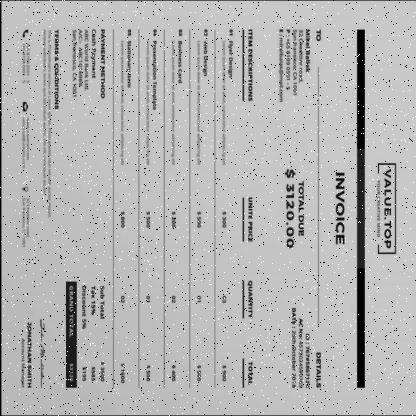Paragraph: (67, 284, 105, 382), (40, 28, 58, 219), (277, 28, 321, 102), (290, 307, 321, 389), (71, 28, 105, 99), (282, 168, 304, 249), (375, 168, 392, 249), (20, 322, 31, 388), (335, 172, 344, 246), (20, 116, 29, 170), (20, 43, 30, 84), (21, 198, 29, 248)
Table: (112, 26, 254, 390)
